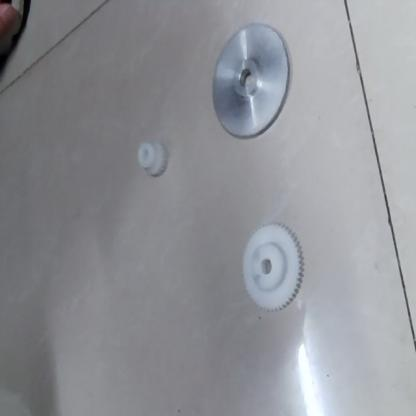FOD: (209, 14, 296, 144), (234, 223, 309, 321), (135, 129, 175, 189)
